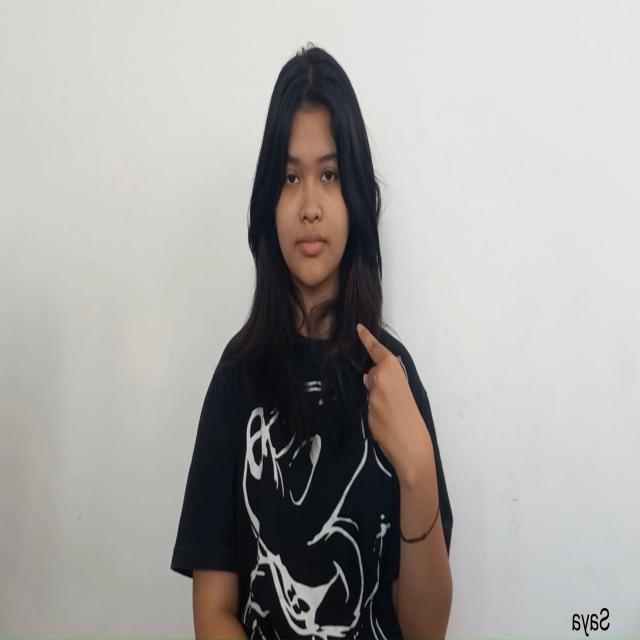Saya -BISINDO-: (352, 316, 441, 499)
